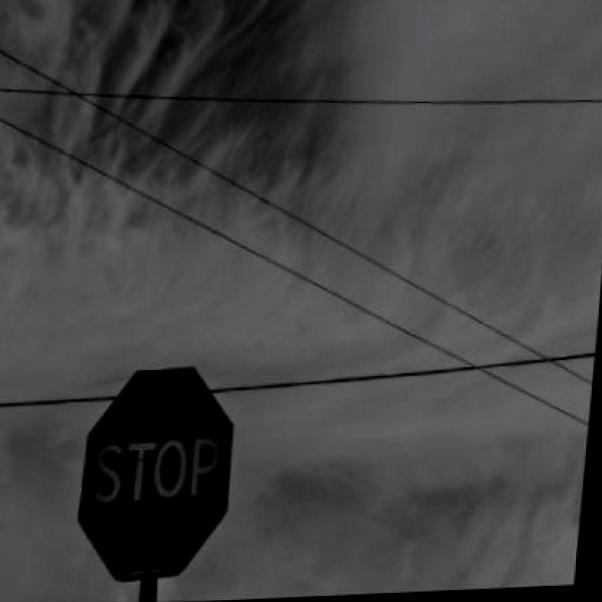stop_sign: (78, 360, 250, 586)
